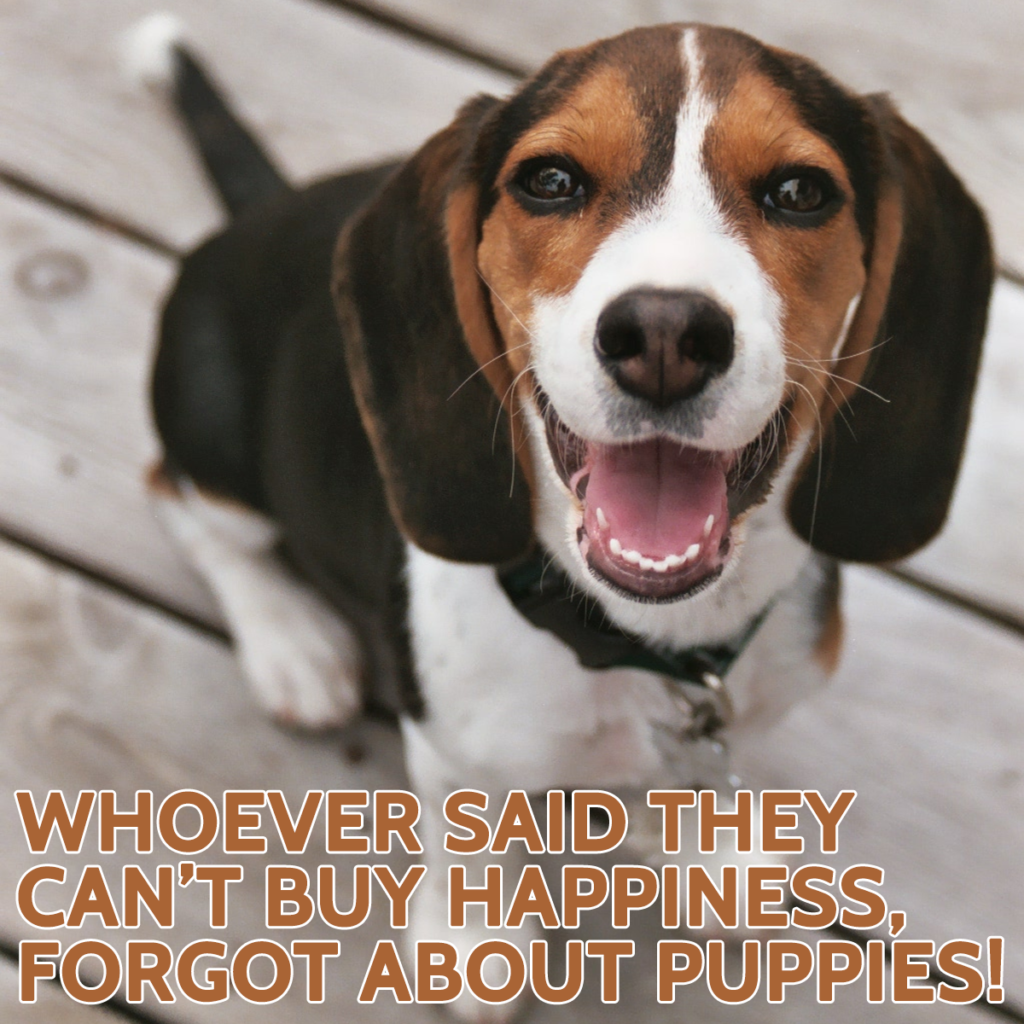dog: (116, 13, 1007, 782)
